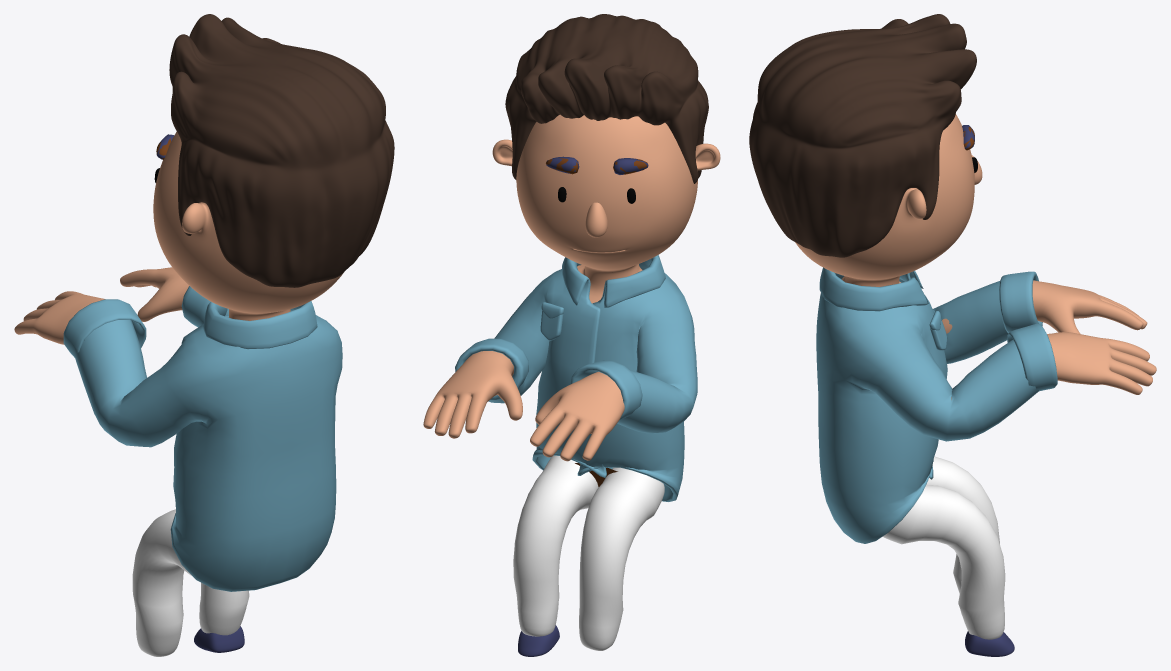
File: dev_front.gltf
3 renders of one model, left to right at view 1: azimuth 30°, elevation 25°; view 2: azimuth 150°, elevation 25°; view 3: azimuth 270°, elevation 25°, orthographic. The views are drawn at different scales.
Visible parts, largest first — view 1: Shirt.001, Hair_3, body.003, Cube.015, Cube.016, Cube.017; view 2: body.003, Shirt.001, Hair_3, Cube.015, Cube.016, Cube.017, Eyebrow.004, nose.003, Eyebrow.003; view 3: Shirt.001, Hair_3, body.003, Cube.016, Cube.015, Cube.017.
Part boxes in pixels (box(x1,y1,x2,y2)): Shirt.001: box(63, 286, 342, 591); Hair_3: box(169, 14, 394, 287); body.003: box(14, 131, 343, 344); Cube.015: box(132, 509, 191, 656); Cube.016: box(199, 582, 249, 635); Cube.017: box(194, 626, 244, 652); body.003: box(423, 114, 720, 461); Shirt.001: box(455, 255, 697, 501); Hair_3: box(505, 14, 708, 183); Cube.015: box(579, 467, 664, 650); Cube.016: box(513, 455, 598, 636); Cube.017: box(518, 625, 559, 656); Eyebrow.004: box(546, 156, 648, 174); nose.003: box(585, 202, 607, 237); Eyebrow.003: box(546, 158, 647, 486); Shirt.001: box(816, 267, 1057, 543); Hair_3: box(749, 14, 976, 257); body.003: box(795, 114, 1156, 399); Cube.016: box(882, 485, 1005, 639); Cube.015: box(926, 456, 999, 593); Cube.017: box(965, 631, 1014, 656).
Size of the model in its own units: 5.26 by 14.06 by 8.45.
